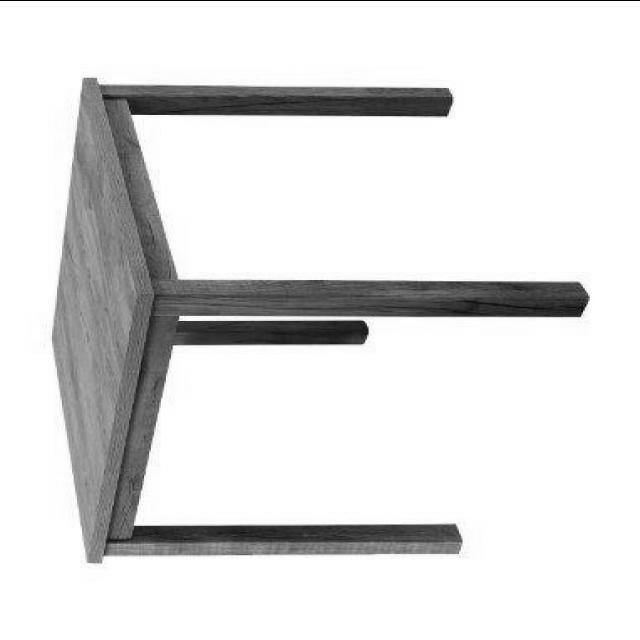table: (48, 82, 590, 566)
